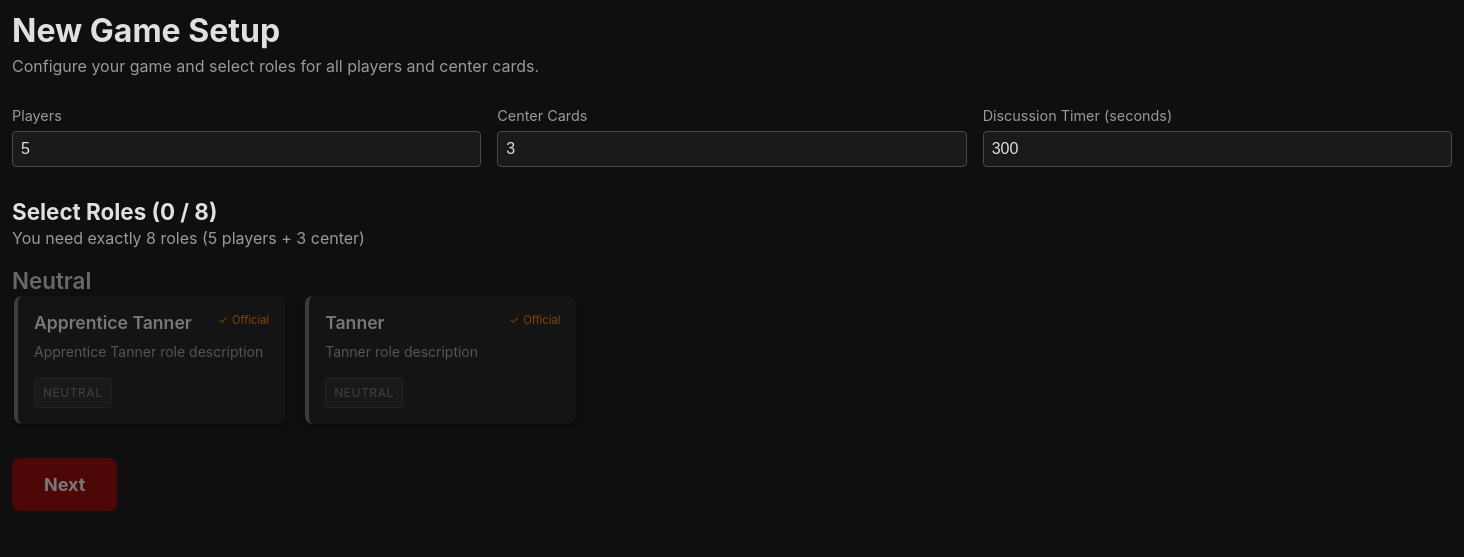
Scenario: GameSetupPage › dependency auto-selection › removing required role cascade-removes dependent
This screenshot has width=1464, height=557.
Note: Select Apprentice Tanner (auto-selects Tanner)
Click the text "Apprentice Tanner": {"x": 150, "y": 360} [12,294,287,426]
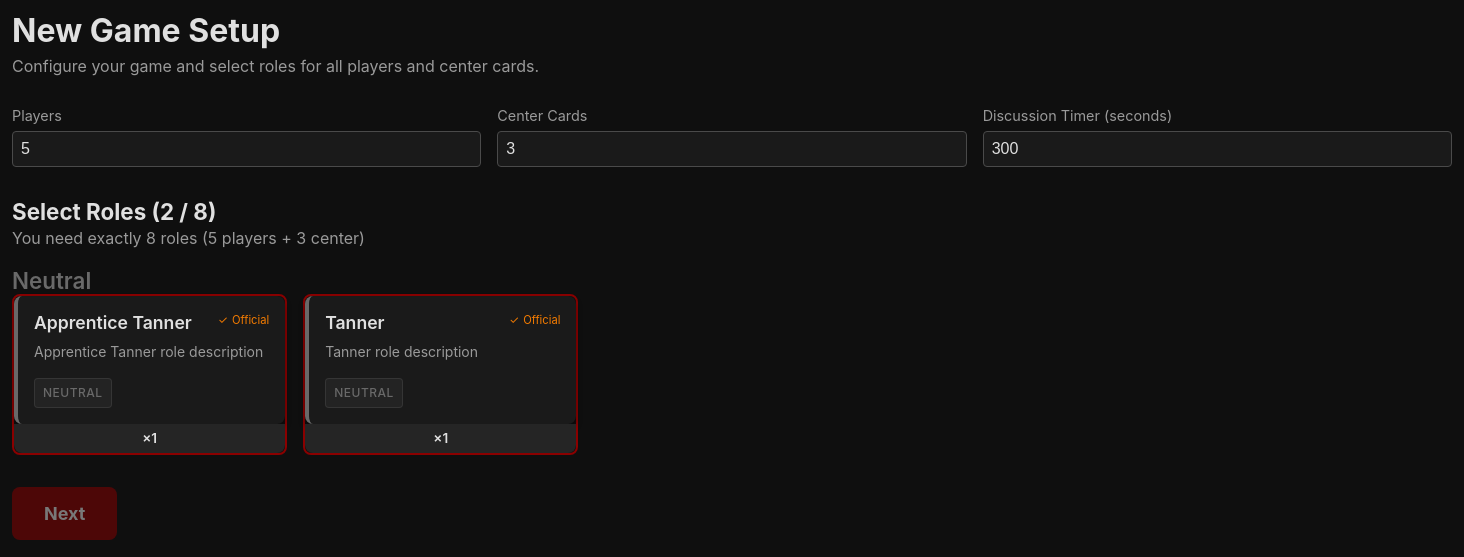
Result: the heading "Select Roles (2 / 8)" is shown at [12,198,216,225]
Note: Remove Tanner → should cascade-remove Apprentice Tanner
Click the text "Tanner": {"x": 441, "y": 375} [303,294,578,455]
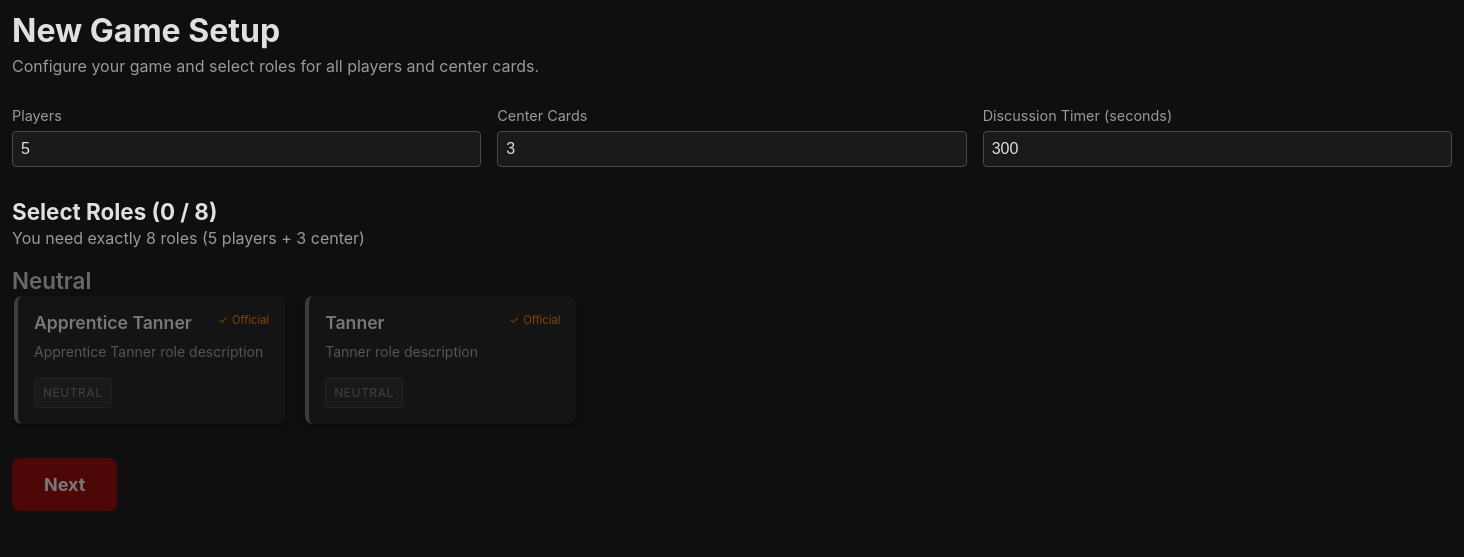
Result: the heading "Select Roles (0 / 8)" is shown at [12,198,217,225]
